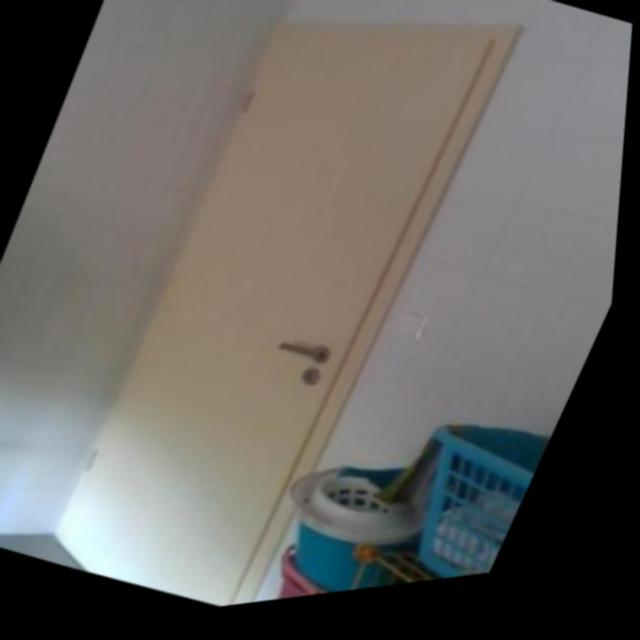door_handle: (269, 332, 336, 383)
